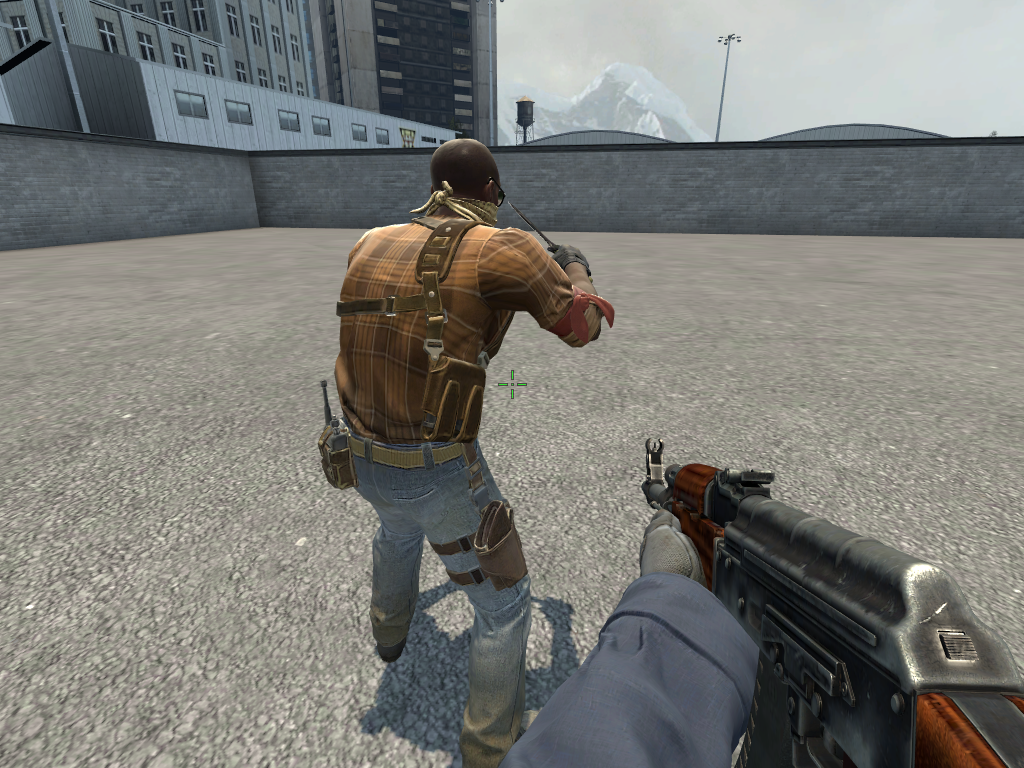tr head: (427, 137, 509, 227)
